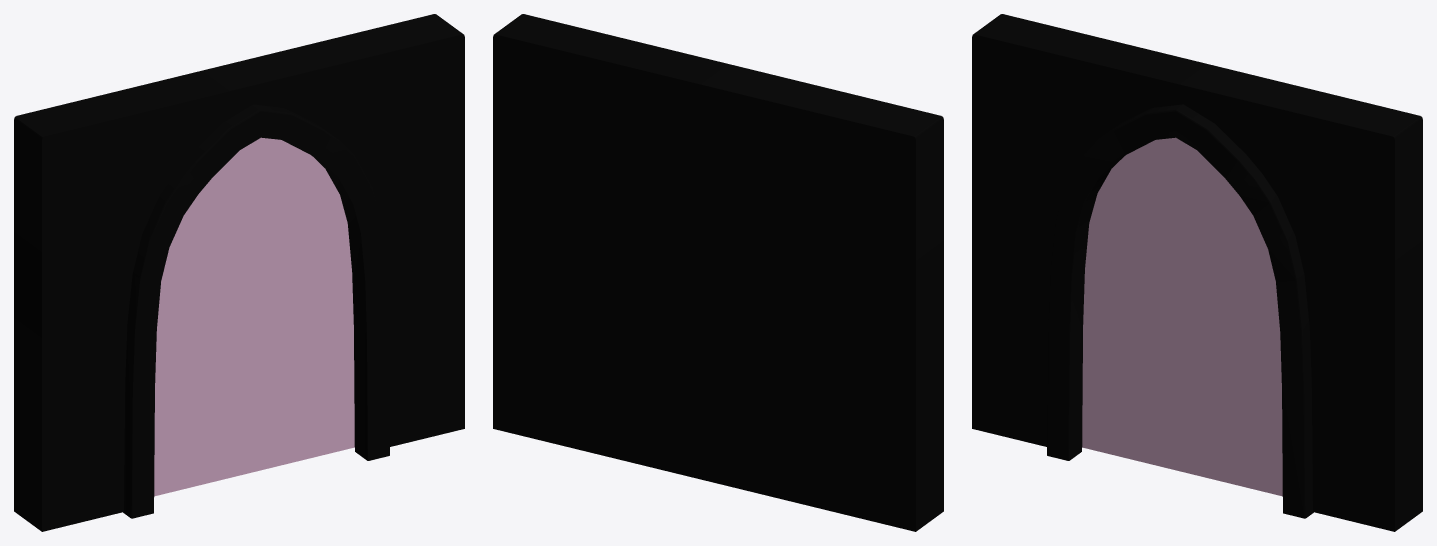
3 renders of one model, left to right at view 1: azimuth 30°, elevation 25°; view 2: azimuth 150°, elevation 25°; view 3: azimuth 330°, elevation 25°, orthographic.
Visible parts, largest first — view 1: wall02_low; view 2: wall02_low; view 3: wall02_low.
Boxes of the visible parts, x1,y1,x2,y2 form: wall02_low: (14,14,464,531); wall02_low: (493,14,943,531); wall02_low: (972,14,1422,531).
Bounding box in the file's own units: 354 × 318 × 51.64.
